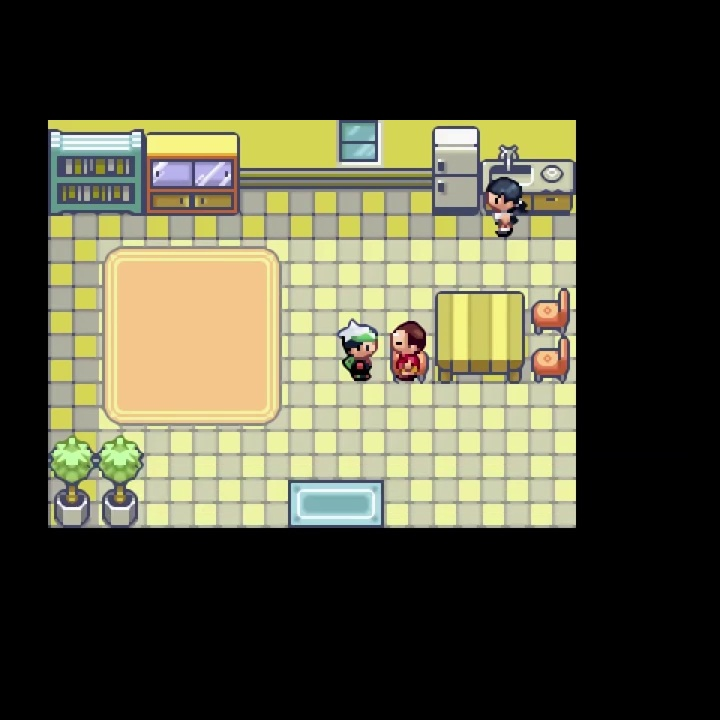exit: (285, 476, 385, 584)
npc: (483, 175, 530, 242), (336, 315, 380, 385), (387, 318, 429, 387)
